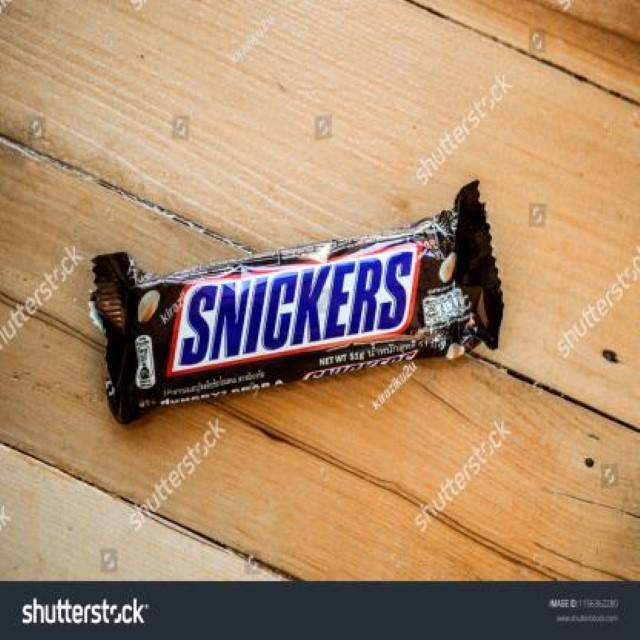snickers_chocolate: (100, 188, 522, 434)
